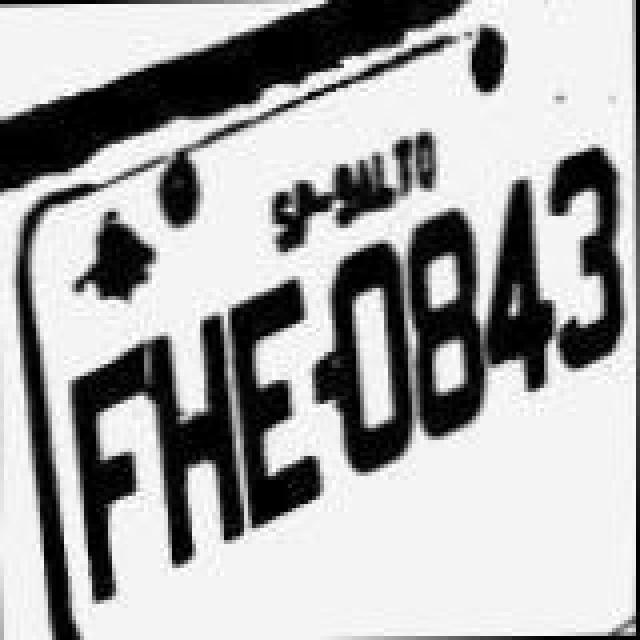3: (546, 144, 630, 368)
4: (478, 174, 558, 402)
8: (400, 208, 492, 444)
E: (226, 270, 326, 538)
F: (56, 338, 152, 606)
H: (138, 308, 246, 576)
O: (330, 240, 418, 480)
